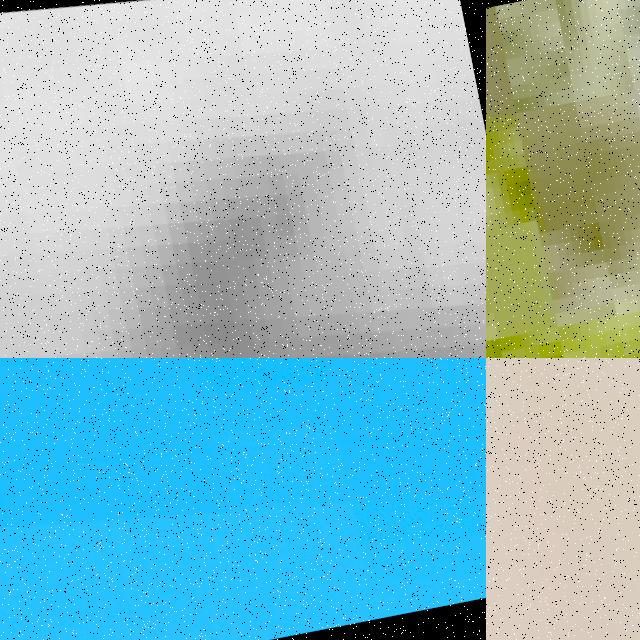0: (0, 0, 486, 358)
drone: (0, 358, 486, 640), (486, 358, 640, 640)
